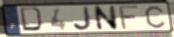4: (50, 7, 68, 32)
C: (144, 5, 167, 29)
D: (19, 6, 46, 33)
F: (118, 5, 142, 31)
J: (72, 6, 95, 32)
N: (92, 5, 120, 32)
